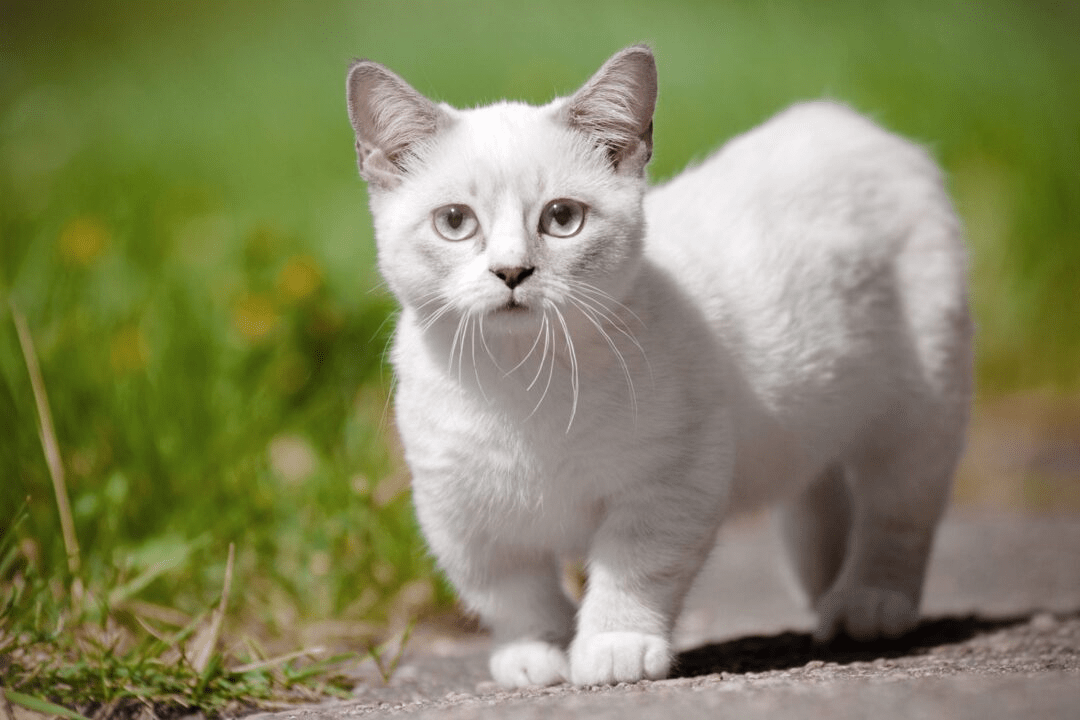cat: (340, 55, 982, 683)
